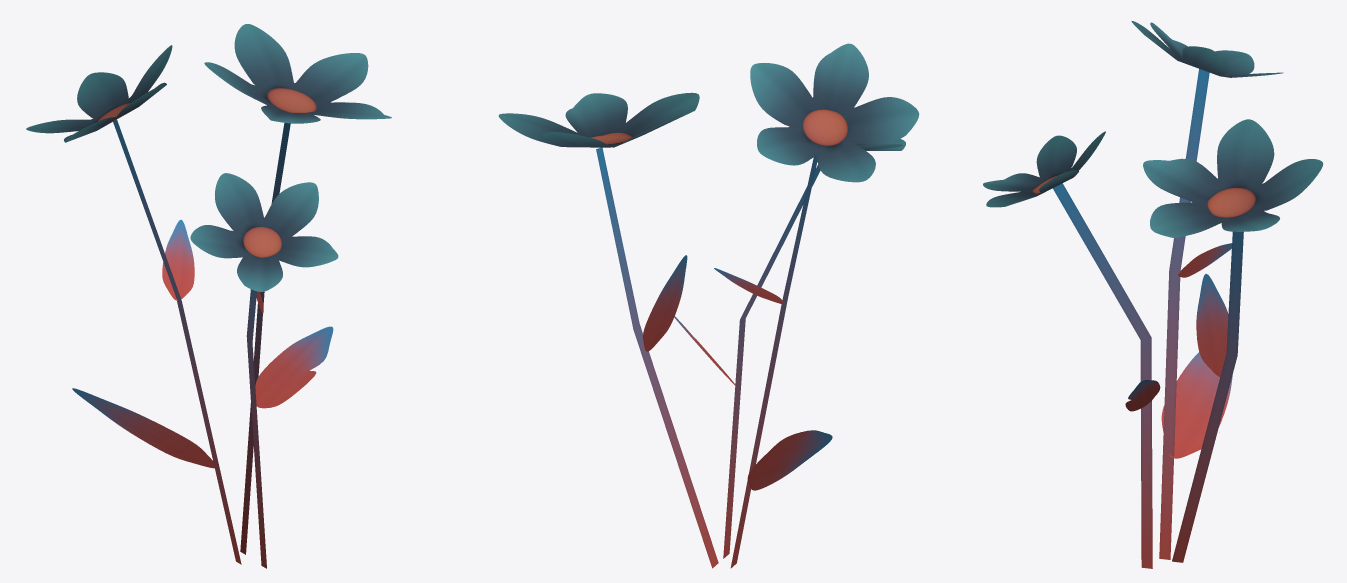
The model's file is Flower01.fbx.
The picture shows the model from 3 angles, left to right: view 1: azimuth 30°, elevation 25°; view 2: azimuth 150°, elevation 25°; view 3: azimuth 270°, elevation 25°; orthographic projection. The views are drawn at different scales.
Parts seen in each view (by area): view 1: Flower01; view 2: Flower01; view 3: Flower01.
Part boxes in pixels (bbox=[...]): Flower01: bbox=[26, 24, 391, 568]; Flower01: bbox=[498, 43, 919, 568]; Flower01: bbox=[983, 21, 1323, 568].
Size of the model in its own units: 19.25 by 25.62 by 16.12.
